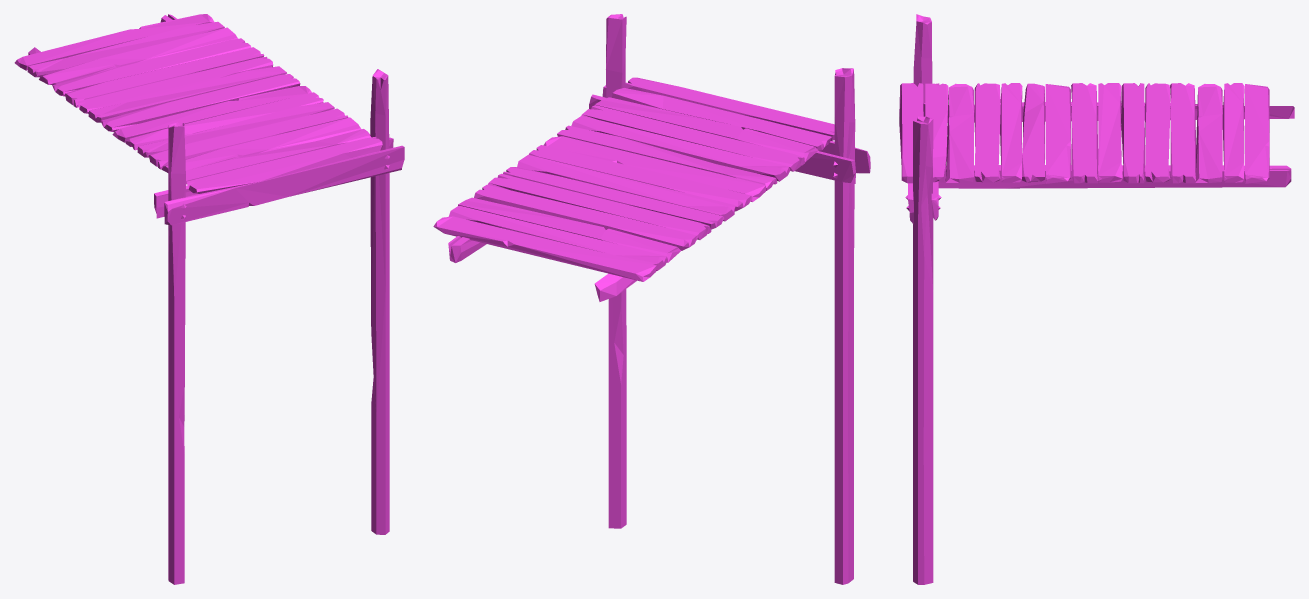
Rendered from SM_Pier_Long_Fantasy.fbx.
3 views of the same model, side by side, from view 1: azimuth 30°, elevation 25°; view 2: azimuth 150°, elevation 25°; view 3: azimuth 270°, elevation 25° (orthographic). The views are drawn at different scales.
Visible parts, largest first — view 1: SM_Pier_Long_Fantasy; view 2: SM_Pier_Long_Fantasy; view 3: SM_Pier_Long_Fantasy.
Boxes of the visible parts, left/top/right/bottom form: SM_Pier_Long_Fantasy: left=14, top=14, right=404, bottom=584; SM_Pier_Long_Fantasy: left=433, top=14, right=870, bottom=584; SM_Pier_Long_Fantasy: left=899, top=14, right=1294, bottom=584.
Size of the model in its own units: 3.8 by 6.93 by 5.36.
